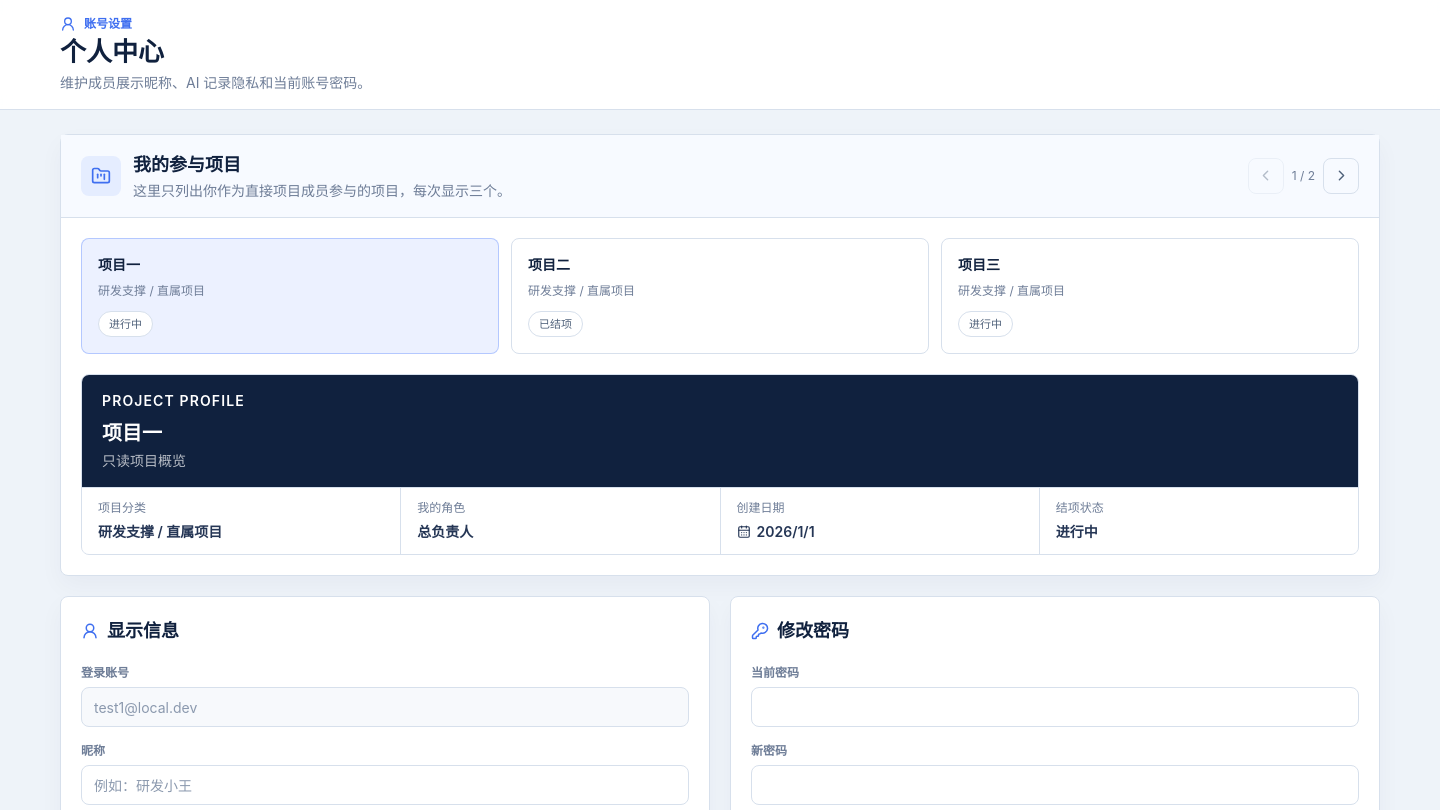
it: ProfilePage › shows directly joined projects and a read-only three-item PROJECT PROFILE for ordinary members
This screenshot has width=1440, height=810.
Expected: the heading "我的参与项目" is shown, x1=133 y1=154 x2=241 y2=174
Expected: the button "项目一 研发支撑 / 直属项目 进行中" is shown, x1=81 y1=238 x2=499 y2=354
Click the button "项目二 研发支撑 / 直属项目 已结项": (549, 264) x1=511 y1=238 x2=929 y2=354
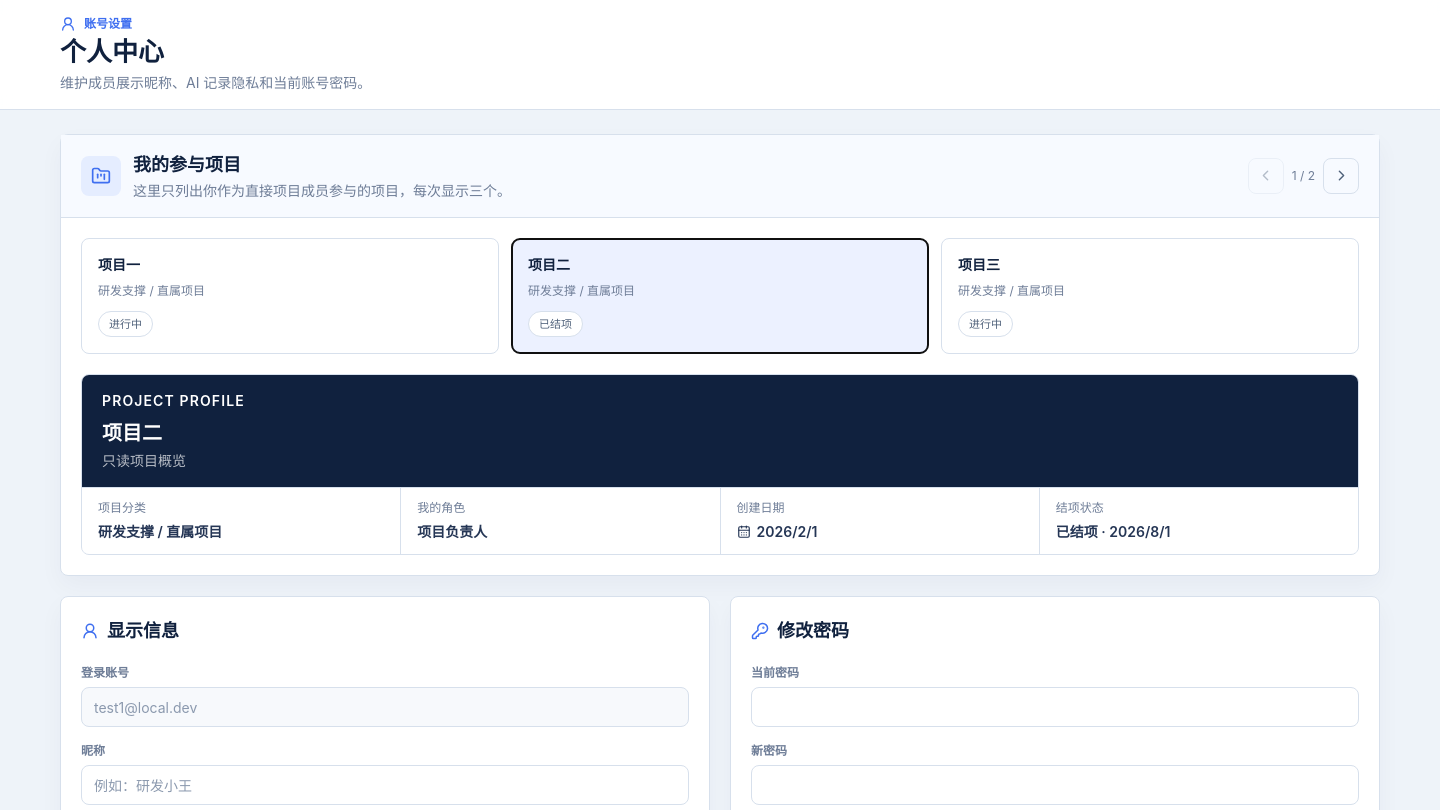
Expected: the text "项目负责人" is shown, x1=417 y1=523 x2=487 y2=540
Click the button "项目三 研发支撑 / 直属项目 进行中": (979, 264) x1=941 y1=238 x2=1359 y2=354
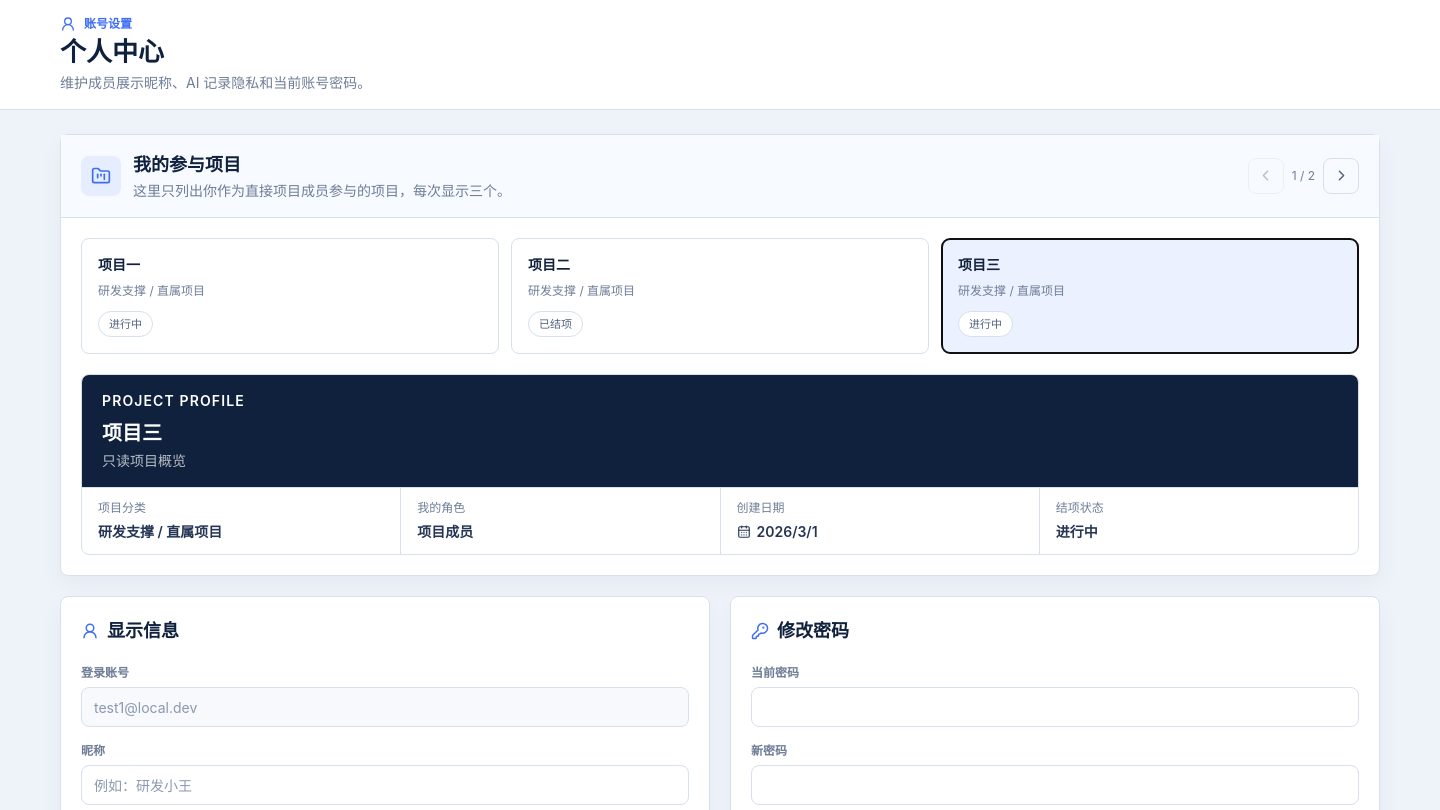
Expected: the text "项目成员" is shown, x1=417 y1=523 x2=473 y2=540
Click the button named "下一组项目": (1341, 176) x1=1323 y1=158 x2=1359 y2=194
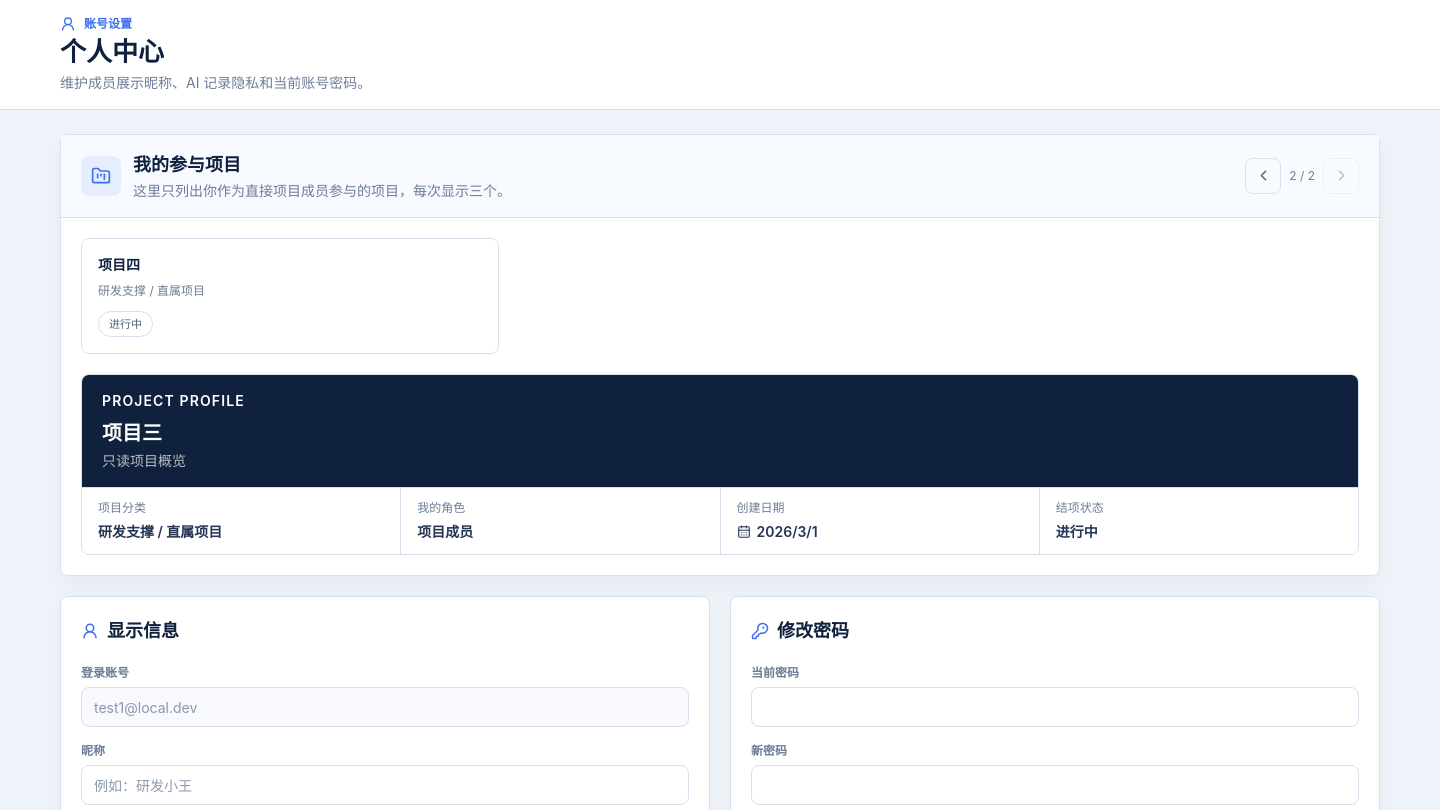
Expected: the button "项目四 研发支撑 / 直属项目 进行中" is shown
Click the button "项目四 研发支撑 / 直属项目 进行中": (119, 264) x1=81 y1=238 x2=499 y2=354
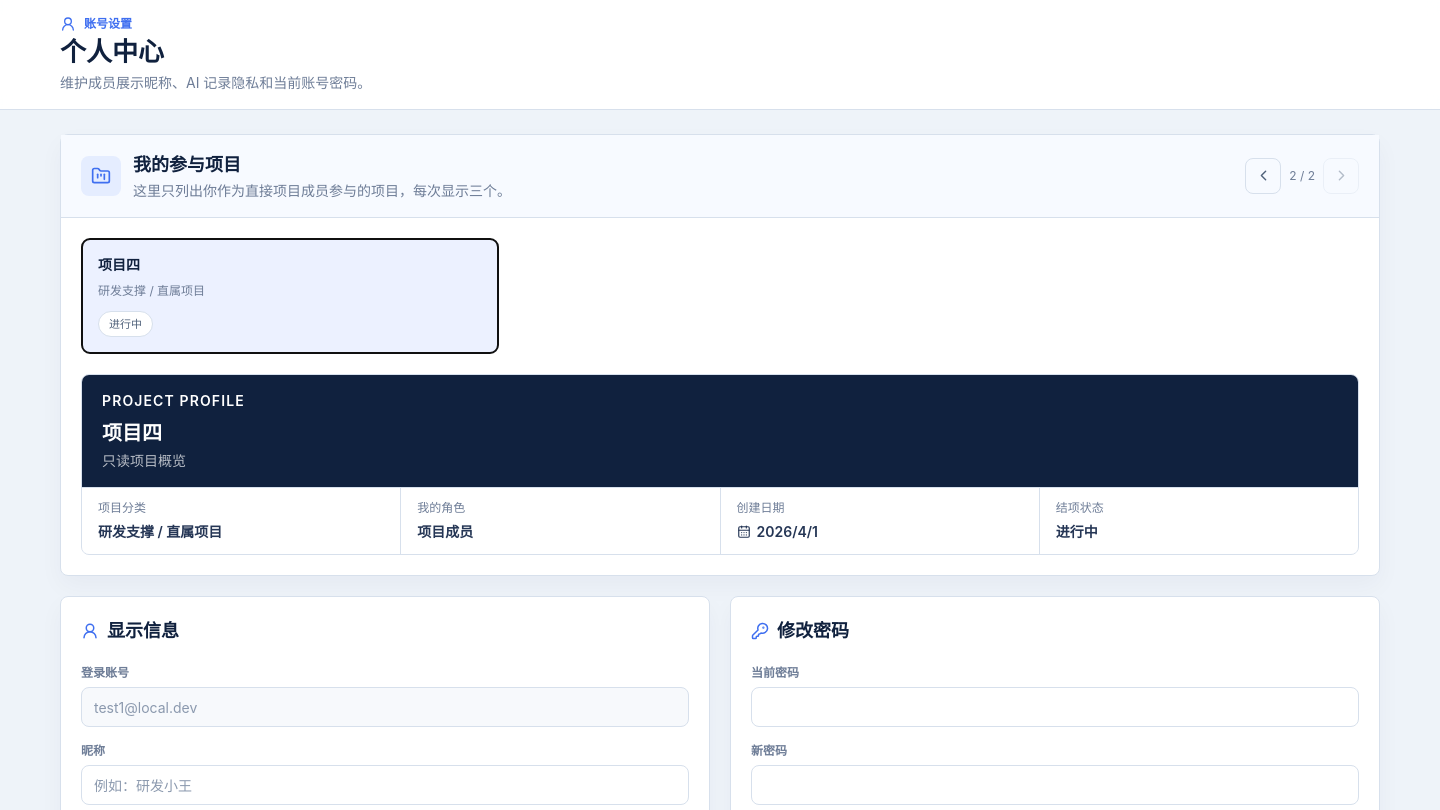
Expected: the heading "项目四" is shown, x1=102 y1=421 x2=162 y2=445
